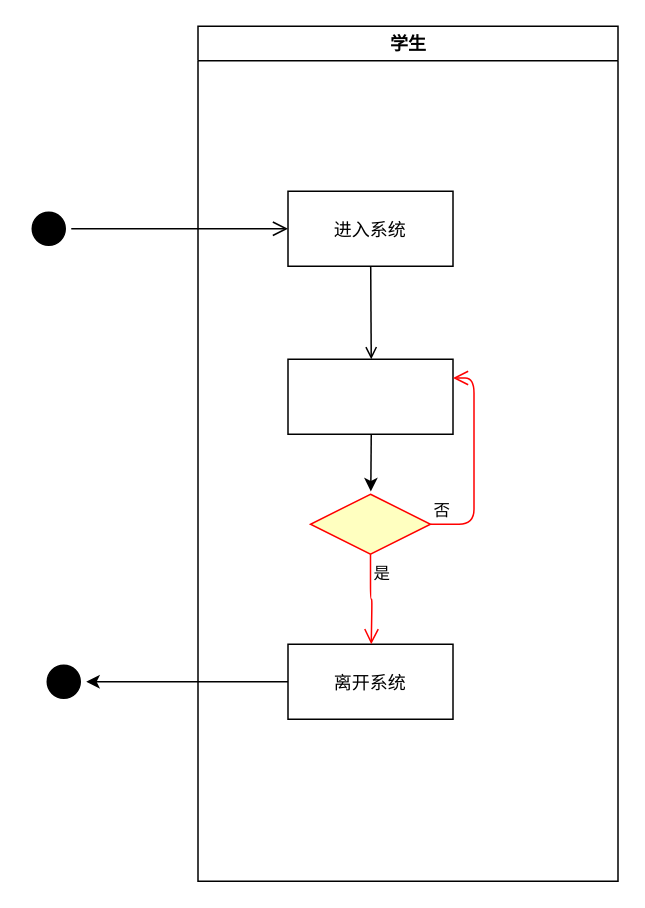
Image size: 645x908. Some labels were removed from this diagram. Here are the shapes that lost their labels. From the top down, the centre of each, then its label:
At pixel 369 396: "查询成绩".
At pixel 369 523: "是否查询完".
